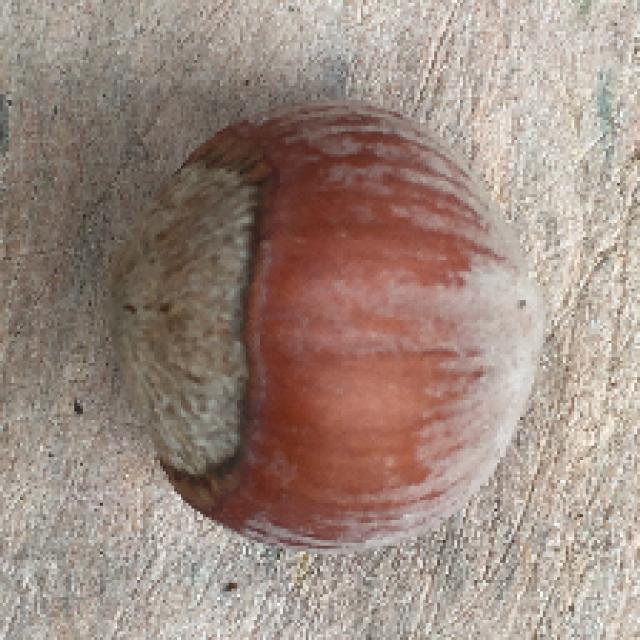qualityHazelnut: (105, 100, 552, 557)
